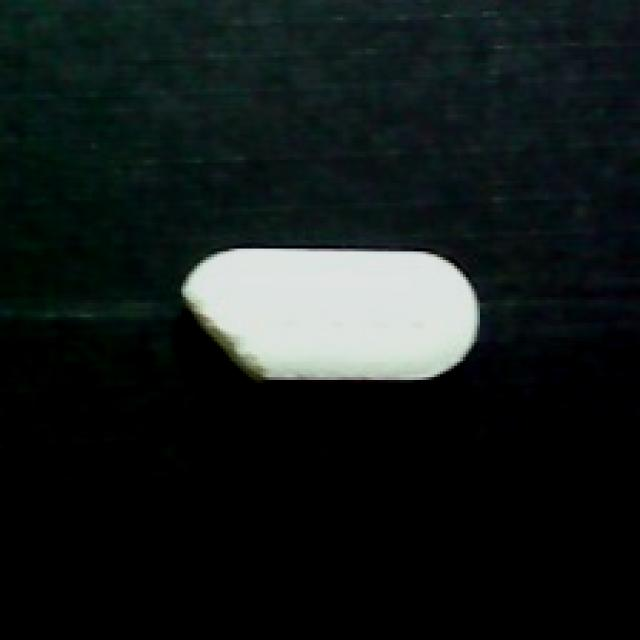defected: (169, 240, 483, 411)
